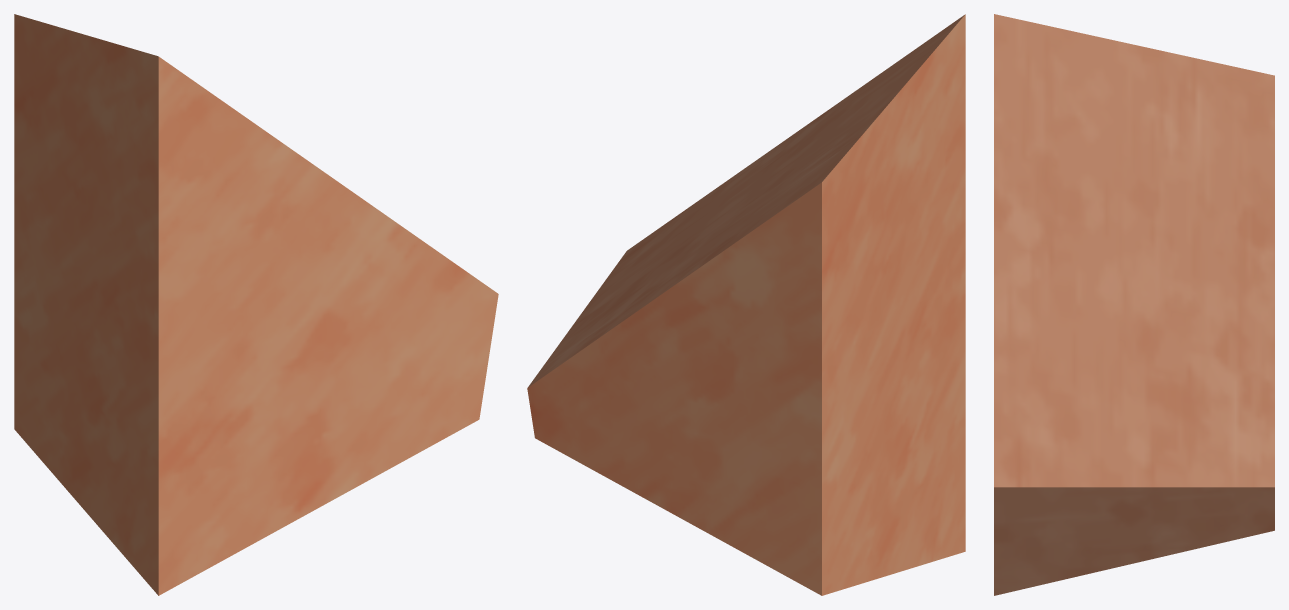
The model's file is towngate_s11.fbx.
3 renders of one model, left to right at view 1: azimuth 30°, elevation 25°; view 2: azimuth 150°, elevation 25°; view 3: azimuth 270°, elevation 25°, orthographic. The views are drawn at different scales.
Visible parts, largest first — view 1: towngate_s11; view 2: towngate_s11; view 3: towngate_s11.
Part boxes in pixels (x1=…): towngate_s11: x1=14, y1=14, x2=498, y2=595; towngate_s11: x1=527, y1=14, x2=965, y2=595; towngate_s11: x1=994, y1=14, x2=1274, y2=595.
Bounding box in the file's own units: 4.08 × 6.19 × 3.
